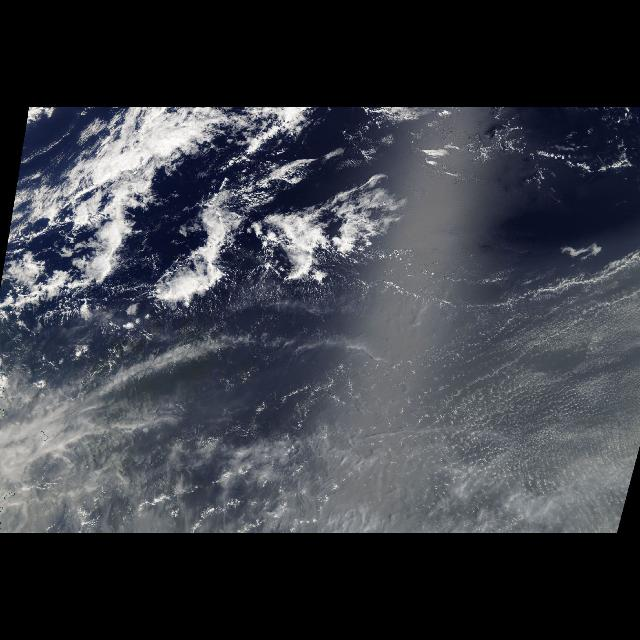Sugar: (332, 255, 640, 532)
